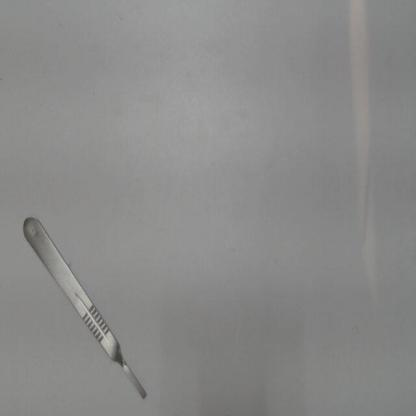No.4 BP Handle: (10, 203, 156, 410)
